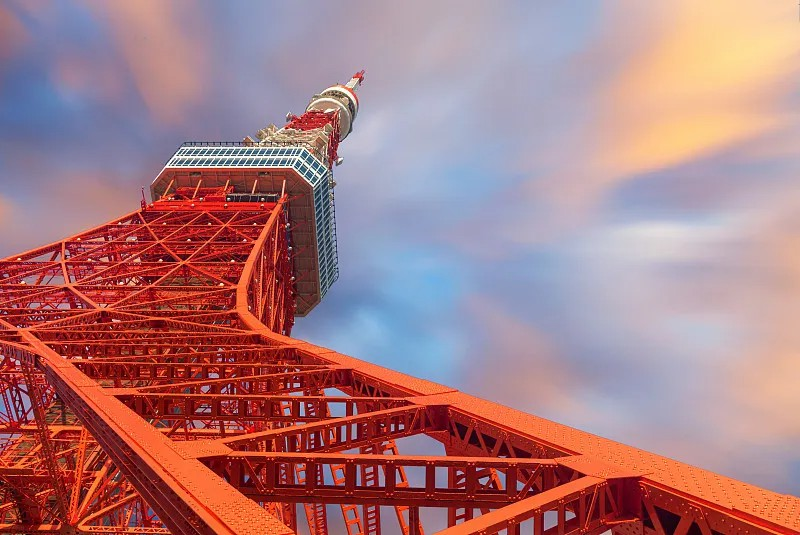Tokyo: (2, 64, 800, 534)
